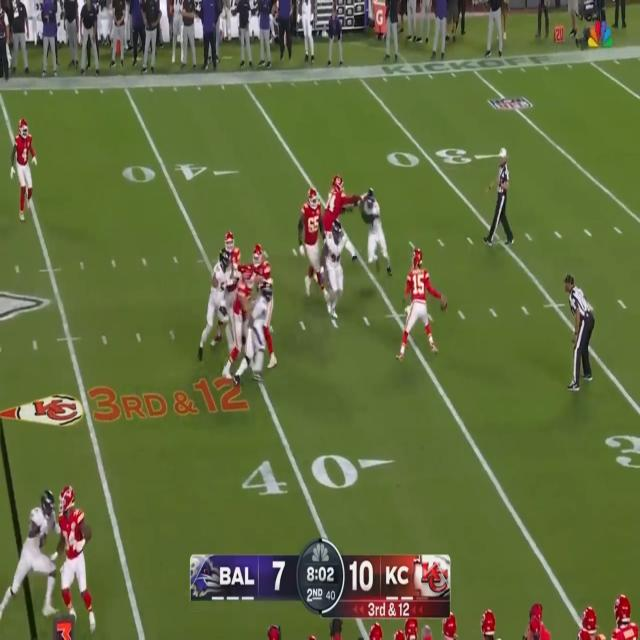Ball: (440, 298, 448, 312)
